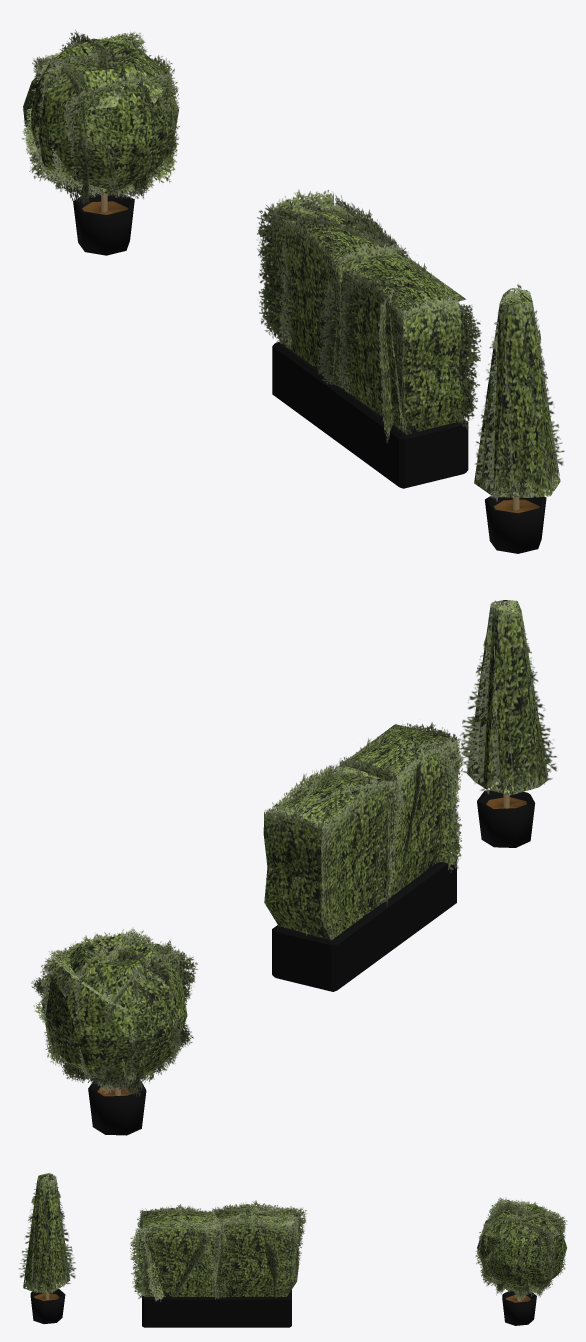
Rendered from lobby-plants.glb.
3 renders of one model, top to bottom at view 1: azimuth 30°, elevation 25°; view 2: azimuth 150°, elevation 25°; view 3: azimuth 270°, elevation 25°, orthographic. The views are drawn at different scales.
Parts seen in each view (by area): view 1: PlantHedge_0, PlantBall_0, PlantCone_3, PlantHedge_1, PlantBall_1, PlantCone_0; view 2: PlantHedge_0, PlantBall_0, PlantCone_3, PlantHedge_1, PlantCone_0, PlantBall_1; view 3: PlantHedge_0, PlantBall_0, PlantHedge_1, PlantCone_3, PlantBall_1, PlantCone_0.
Boxes of the visible parts, <box> form: PlantHedge_0: <box>256,189,481,442</box>; PlantBall_0: <box>21,30,179,204</box>; PlantCone_3: <box>474,284,564,501</box>; PlantHedge_1: <box>272,342,468,488</box>; PlantBall_1: <box>73,193,134,255</box>; PlantCone_0: <box>485,495,546,553</box>; PlantHedge_0: <box>263,722,463,940</box>; PlantBall_0: <box>31,927,198,1096</box>; PlantCone_3: <box>458,600,557,795</box>; PlantHedge_1: <box>272,856,456,991</box>; PlantCone_0: <box>477,790,535,847</box>; PlantBall_1: <box>88,1080,146,1135</box>; PlantHedge_0: <box>130,1200,307,1301</box>; PlantBall_0: <box>475,1197,567,1301</box>; PlantHedge_1: <box>142,1289,291,1327</box>; PlantCone_3: <box>18,1173,76,1294</box>; PlantBall_1: <box>502,1291,536,1325</box>; PlantCone_0: <box>30,1289,65,1323</box>.
Bounding box in the file's own units: 1.92 × 2.87 × 9.2.
4 materials, 1 textured.
